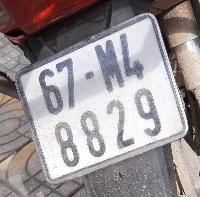2: (102, 92, 138, 153)
4: (114, 28, 150, 85)
6: (35, 63, 68, 118)
7: (51, 53, 88, 114)
8: (75, 104, 112, 162), (50, 117, 83, 171)
9: (127, 80, 170, 142)
M: (90, 35, 127, 98)
